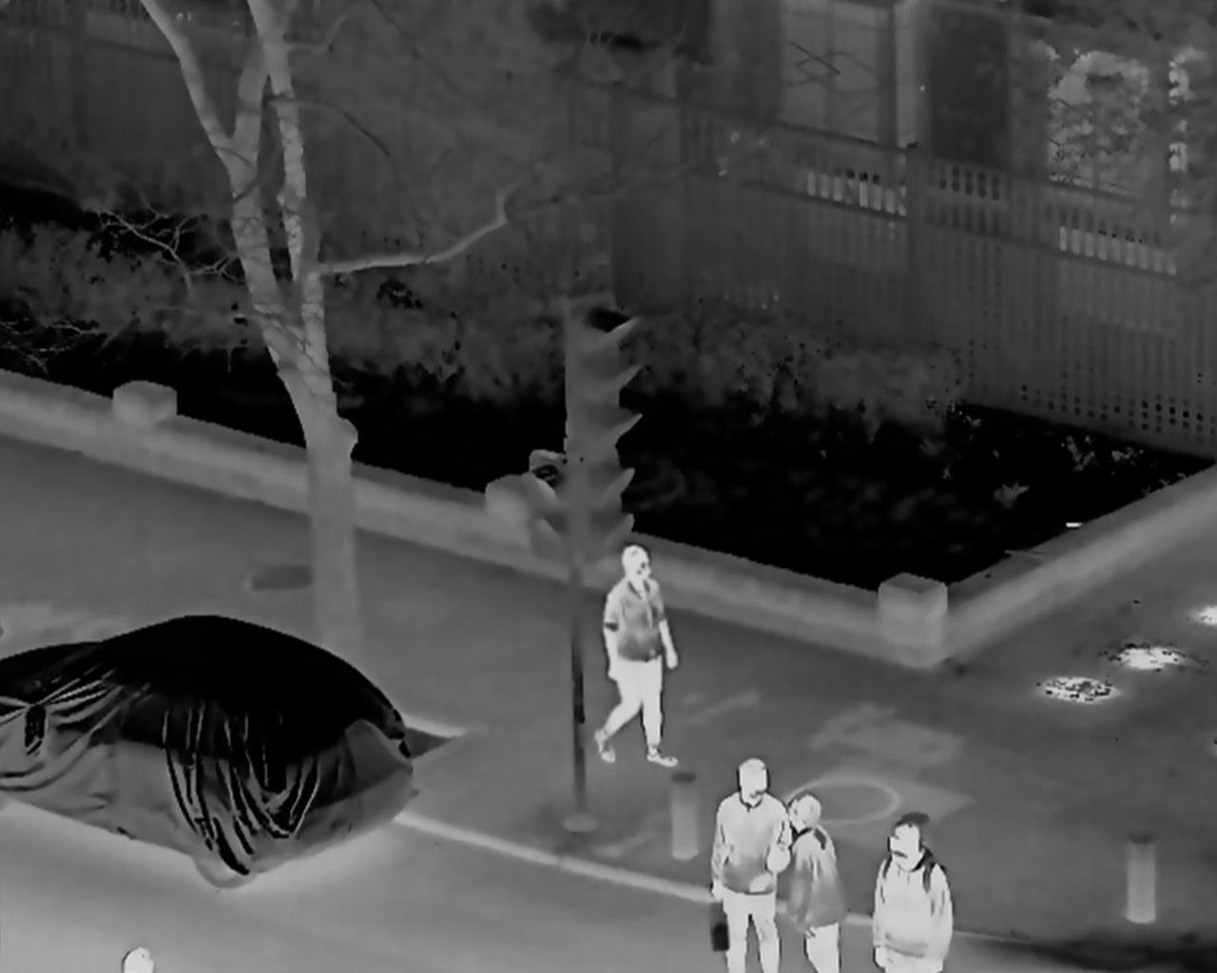person: (586, 548, 677, 769), (701, 752, 787, 973), (865, 813, 954, 973), (786, 798, 850, 973)
